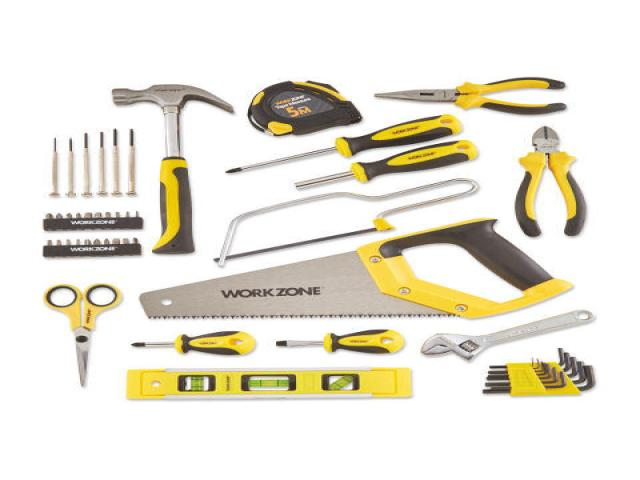Adjustable spanner: (420, 309, 594, 359)
Backsaw: (214, 178, 480, 266)
Cutting pliers: (514, 124, 586, 236)
Hammer: (112, 84, 233, 254)
Handsaw: (139, 218, 572, 318)
Needle-nose pliers: (375, 78, 566, 114)
Screwdriver: (226, 114, 461, 173), (295, 140, 477, 188), (275, 329, 405, 353), (131, 331, 256, 355)
Tape measure: (247, 81, 361, 135)
